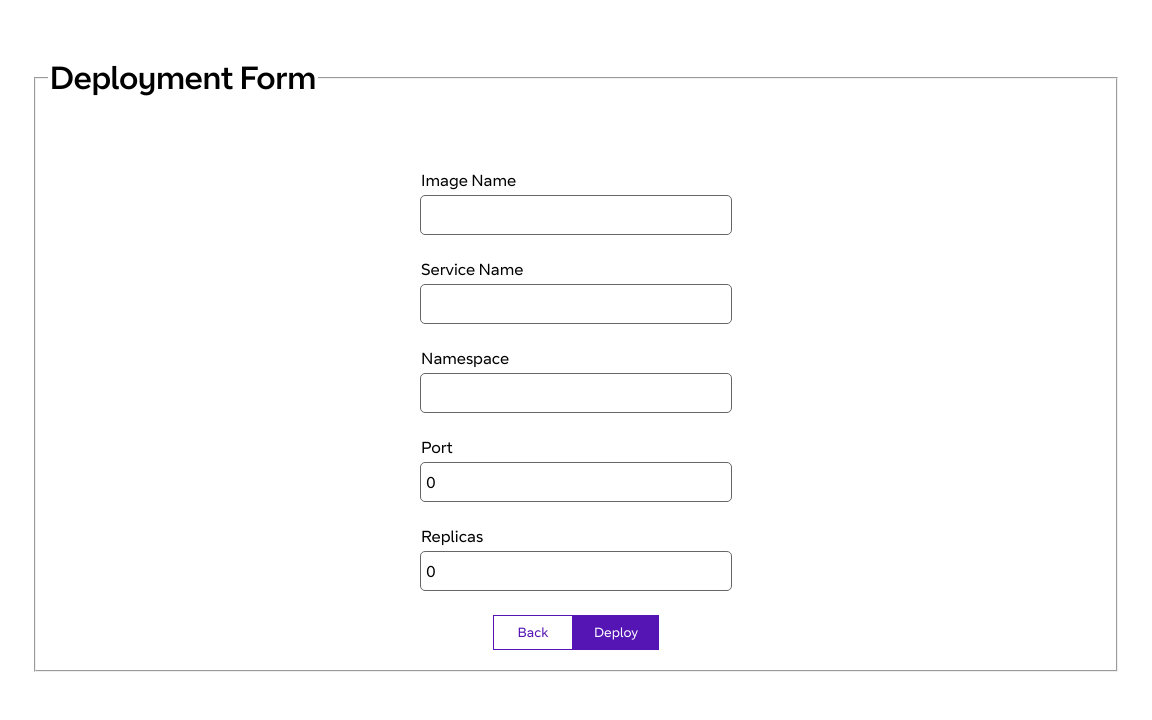
Test: DeploymentForm Component › displays an error message if createDeployment fails
In the field labelled "Image Name": (576, 215) [420,195,732,235], type "my-image"
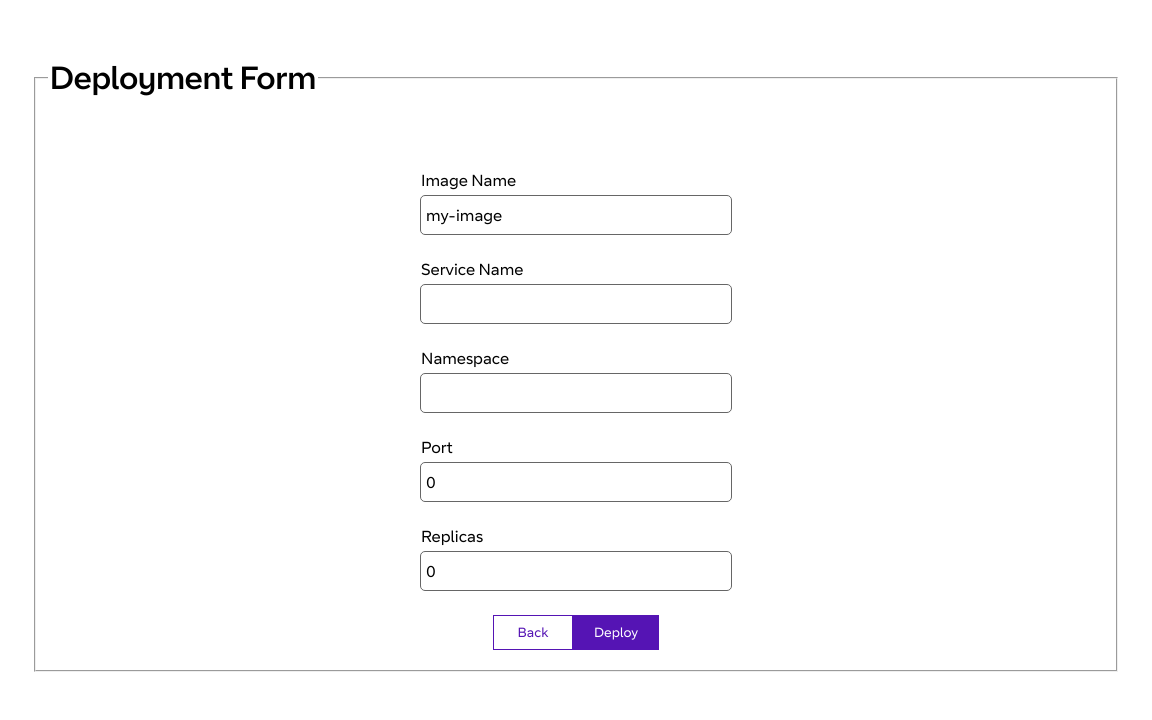
In the field labelled "Service Name": (576, 304) [420,284,732,324], type "my-service"
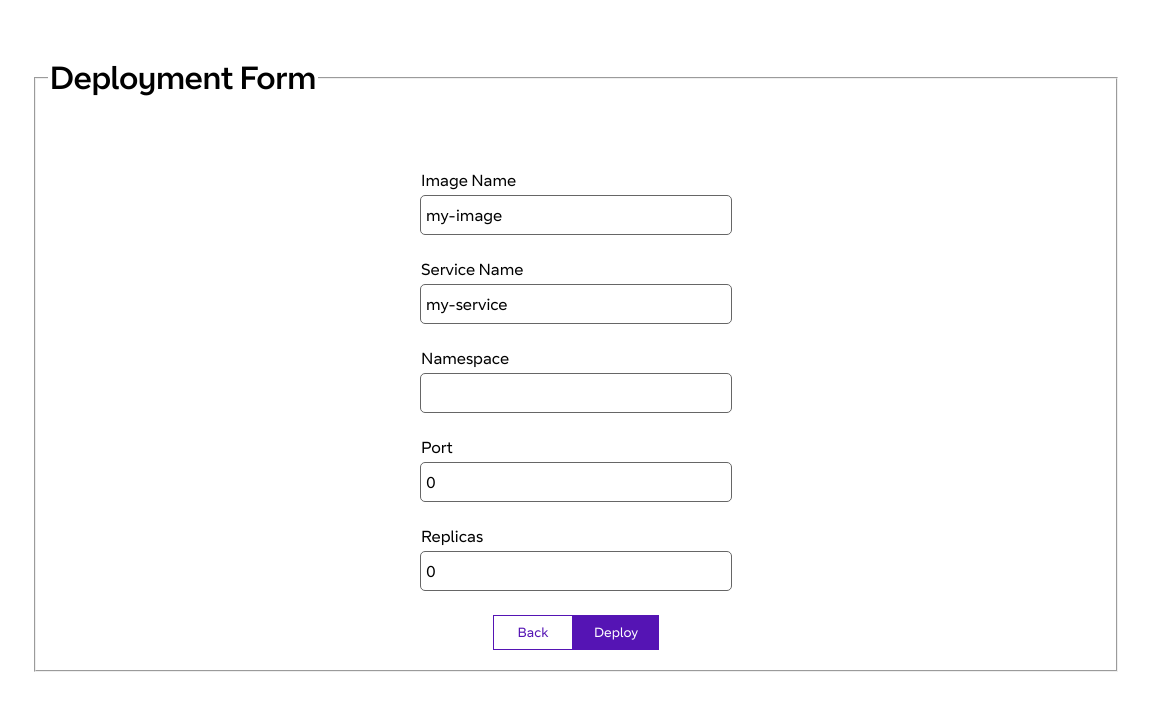
In the field labelled "Namespace": (576, 393) [420,373,732,413], type "my-namespace"
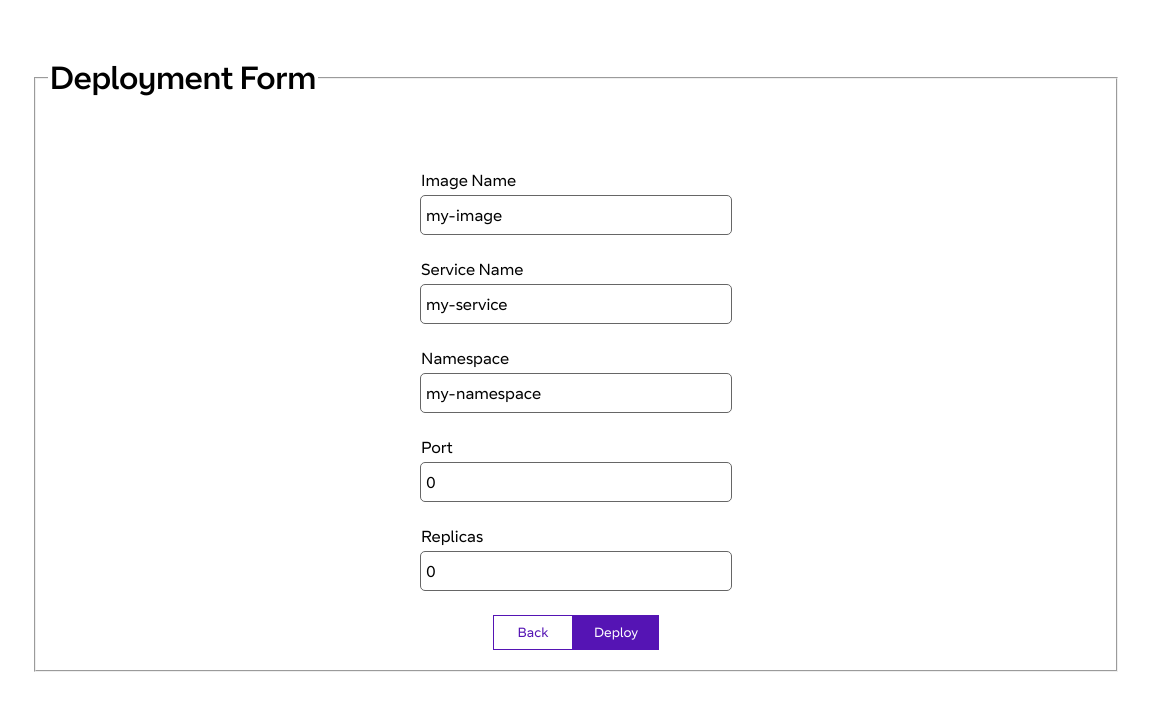
Replace the text in the number field labelled "Port" with "8080": (576, 482) [420,462,732,502]
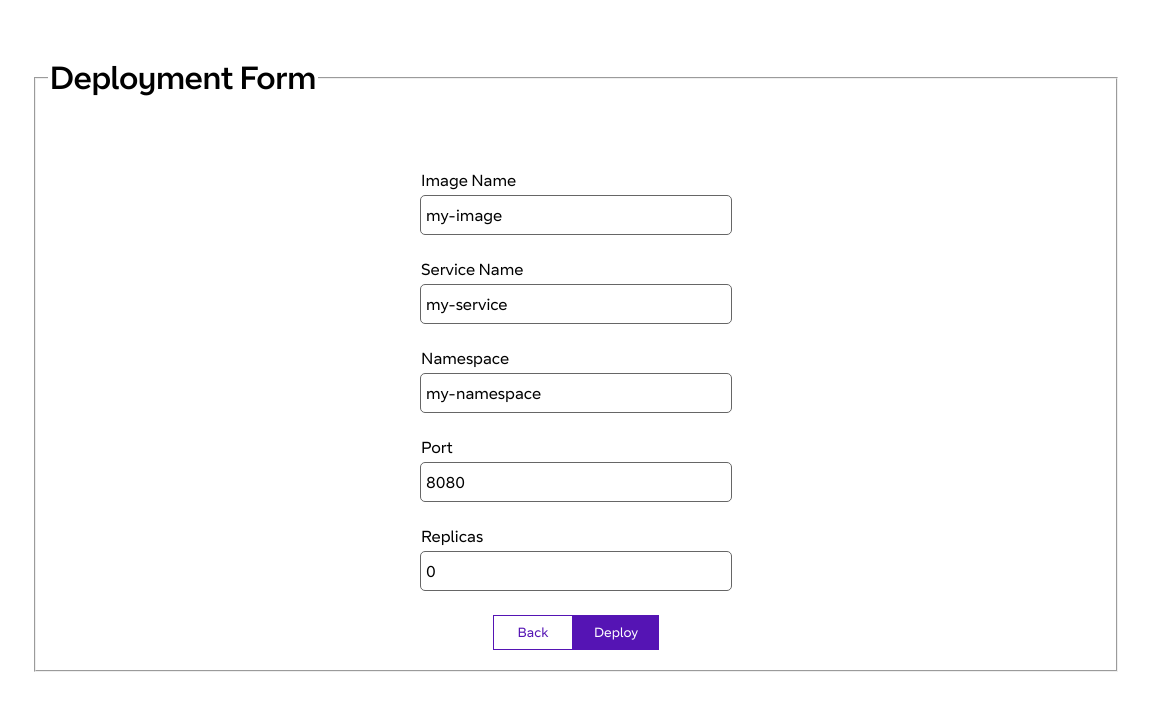
Replace the text in the number field labelled "Replicas" with "1": (576, 571) [420,551,732,591]
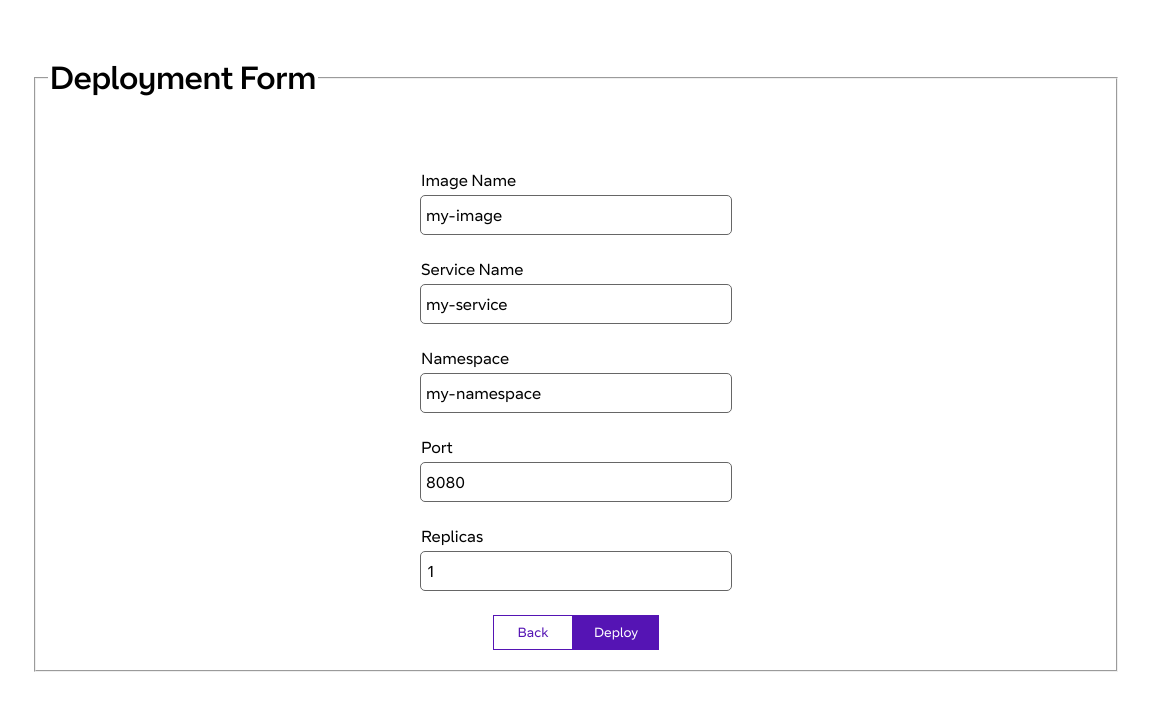
Click the button "Deploy": (616, 633) [573,615,659,650]
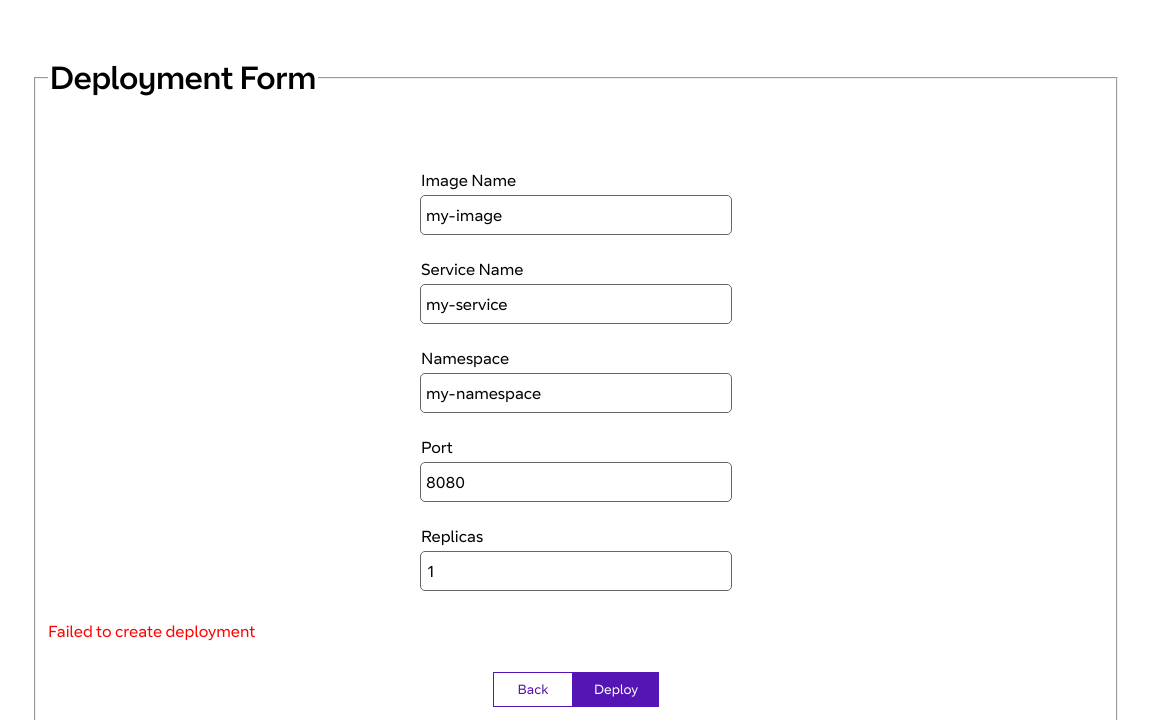
Check: the text "Failed to create deployment" is shown, box [48,621,256,641]
